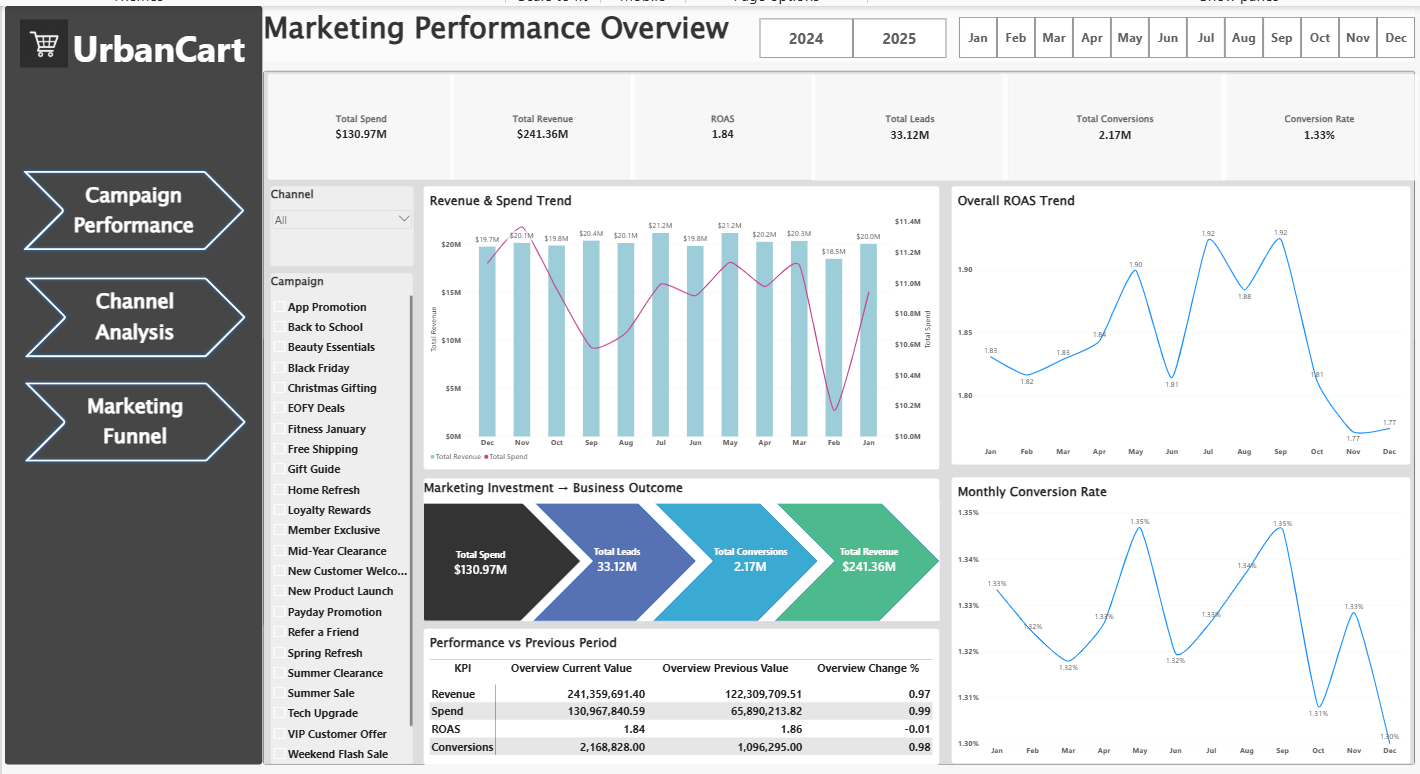

The page's visual inventory and layout, read from the dashboard file:
{"tool":"powerbi","page":{"name":"Overview","canvas":[3840,2160],"ordinal":0},"visuals":[{"type":"shape","box":[10,0,695,2050],"z":0},{"type":"textbox","box":[178.5,28.4,490.7,158.2],"z":0,"group":"g3"},{"type":"shape","box":[1139.5,1338.2,425,325],"z":0,"group":"g2"},{"type":"image","box":[48.7,28.4,129.8,146],"z":1000,"group":"g3"},{"type":"shape","box":[705.6,174.4,3114.4,1877.5],"z":1000},{"type":"shape","box":[1437,1338.2,440,325],"z":1000,"group":"g2"},{"type":"shape","title":"Marketing Performance Overview  ","box":[705.6,0,3114.4,154.1],"z":2000},{"type":"shape","box":[2089.5,1338.2,445,325],"z":2000,"group":"g2"},{"type":"slicer","title":"Channel","fields":{"Values":["Dim_Channel.Standard Channel"]},"box":[725,487.5,387.5,217.5],"z":3000},{"type":"shape","box":[1759.5,1338.2,445,325],"z":3000,"group":"g2"},{"type":"cardVisual","title":"Total Impressions","fields":{"Data":["Measure.Total Spend"]},"box":[716.3,185.6,505.6,288.2],"z":4000,"group":"g1"},{"type":"slicer","title":"Campaign","fields":{"Values":["Dim_Campaign.Campaign_Name"]},"box":[725,722.5,385,1327.5],"z":4000},{"type":"cardVisual","fields":{"Data":["Measure.Total Spend"]},"box":[1152,1376.1,285,262.7],"z":4000,"group":"g2"},{"type":"cardVisual","fields":{"Data":["Measure.Total Revenue"]},"box":[1205.7,185.6,505.6,288.2],"z":5000,"group":"g1"},{"type":"actionButton","title":"Overview","box":[52,1011.2,615,230],"z":5000},{"type":"cardVisual","fields":{"Data":["Measure.Total Revenue"]},"box":[2219.5,1365.3,252.5,262.7],"z":5000,"group":"g2"},{"type":"cardVisual","fields":{"Data":["Measure.ROAS"]},"box":[1695.1,185.6,505.6,288.2],"z":6000,"group":"g1"},{"type":"actionButton","title":"Overview","box":[52,727.7,614.3,231.5],"z":6000},{"type":"cardVisual","fields":{"Data":["Measure.Total Conversions"]},"box":[1899.5,1365.3,252.5,262.7],"z":6000,"group":"g2"},{"type":"cardVisual","fields":{"Data":["Measures (2).Total Conversions"]},"box":[2704.5,183.8,608,290],"z":7000,"group":"g1"},{"type":"cardVisual","fields":{"Data":["Measure.Total Leads"]},"box":[1537.8,1368,252.5,262.7],"z":7000,"group":"g2"},{"type":"slicer","fields":{"Values":["Dim_Date.Year"]},"box":[2027.6,32.4,543.4,109.5],"z":8000},{"type":"cardVisual","fields":{"Data":["Measure.Conversion Rate"]},"box":[3292.5,183.8,536.1,290],"z":8000,"group":"g1"},{"type":"slicer","fields":{"Values":["Dim_Date.Month"]},"box":[2568.9,28.4,1271.1,113.4],"z":9000},{"type":"group","id":"g1","title":"Group 1","box":[716.3,183.8,3113.9,288.2],"z":11000},{"type":"lineChart","title":"Monthly Conversion Rate","fields":{"Category":["Dim_Date.Month"],"Y":["Measure.Conversion Rate"]},"box":[2566.9,1273.3,1240.9,774.5],"z":12000},{"type":"group","id":"g2","title":"Group 2","box":[1139.5,1338.2,1395,324.4],"z":13000},{"type":"group","id":"g3","title":"Group 3","box":[48.7,28.4,620.4,158.2],"z":14000},{"type":"cardVisual","fields":{"Data":["Measure.Total Leads"]},"box":[2184.5,183.8,536.1,290],"z":14003,"group":"g1"},{"type":"actionButton","title":"Overview","box":[48.7,438,615,230],"z":16000},{"type":"shape","title":"Marketing Investment → Business Outcome","box":[1139.5,1277.4,1395,385.2],"z":16500},{"type":"pivotTable","title":"Performance vs Previous Period","fields":{"Rows":["Overview KPI.KPI"],"Values":["Measure.Overview Current Value","Measure.Overview Previous Value","Measure.Overview Change %"]},"box":[1139.5,1682.9,1395,369],"z":17000},{"type":"lineClusteredColumnComboChart","title":"Revenue & Spend Trend","fields":{"Category":["Dim_Date.Month"],"Y":["Measure.Total Revenue"],"Y2":["Measure.Total Spend"]},"box":[1139.5,486.6,1395,766.4],"z":17500},{"type":"lineChart","title":"Overall ROAS Trend","fields":{"Category":["Dim_Date.Month"],"Y":["Measure.ROAS"]},"box":[2566.9,486.6,1240.9,754.3],"z":18000}]}

Visuals, with their boxes on the page's 3840x2160 design canvas (x1, y1, x2, y2). These are canvas units, not pixel positions in the 1420x774 screenshot, which may show the page scaled, cropped or inside an application window:
shape: region(10, 0, 705, 2050)
textbox: region(178, 28, 669, 187)
shape: region(1140, 1338, 1564, 1663)
image: region(49, 28, 178, 174)
shape: region(706, 174, 3820, 2052)
shape: region(1437, 1338, 1877, 1663)
"Marketing Performance Overview  " shape: region(706, 0, 3820, 154)
shape: region(2090, 1338, 2534, 1663)
"Channel" slicer: region(725, 488, 1112, 705)
shape: region(1760, 1338, 2204, 1663)
"Total Impressions" cardVisual: region(716, 186, 1222, 474)
"Campaign" slicer: region(725, 722, 1110, 2050)
cardVisual - Measure.Total Spend: region(1152, 1376, 1437, 1639)
cardVisual - Measure.Total Revenue: region(1206, 186, 1711, 474)
"Overview" actionButton: region(52, 1011, 667, 1241)
cardVisual - Measure.Total Revenue: region(2220, 1365, 2472, 1628)
cardVisual - Measure.ROAS: region(1695, 186, 2201, 474)
"Overview" actionButton: region(52, 728, 666, 959)
cardVisual - Measure.Total Conversions: region(1900, 1365, 2152, 1628)
cardVisual - Measures (2).Total Conversions: region(2704, 184, 3312, 474)
cardVisual - Measure.Total Leads: region(1538, 1368, 1790, 1631)
slicer - Dim_Date.Year: region(2028, 32, 2571, 142)
cardVisual - Measure.Conversion Rate: region(3292, 184, 3829, 474)
slicer - Dim_Date.Month: region(2569, 28, 3840, 142)
"Group 1" group: region(716, 184, 3830, 472)
"Monthly Conversion Rate" lineChart: region(2567, 1273, 3808, 2048)
"Group 2" group: region(1140, 1338, 2534, 1663)
"Group 3" group: region(49, 28, 669, 187)
cardVisual - Measure.Total Leads: region(2184, 184, 2721, 474)
"Overview" actionButton: region(49, 438, 664, 668)
"Marketing Investment → Business Outcome" shape: region(1140, 1277, 2534, 1663)
"Performance vs Previous Period" pivotTable: region(1140, 1683, 2534, 2052)
"Revenue & Spend Trend" lineClusteredColumnComboChart: region(1140, 487, 2534, 1253)
"Overall ROAS Trend" lineChart: region(2567, 487, 3808, 1241)
